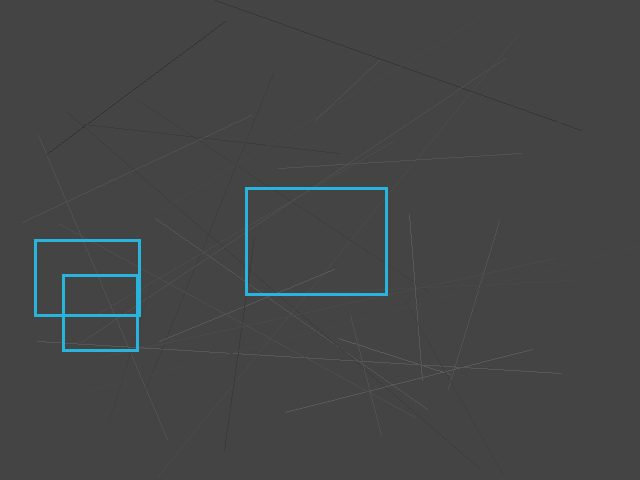D10: (245, 187, 387, 295), (34, 239, 140, 316), (62, 274, 138, 351)
